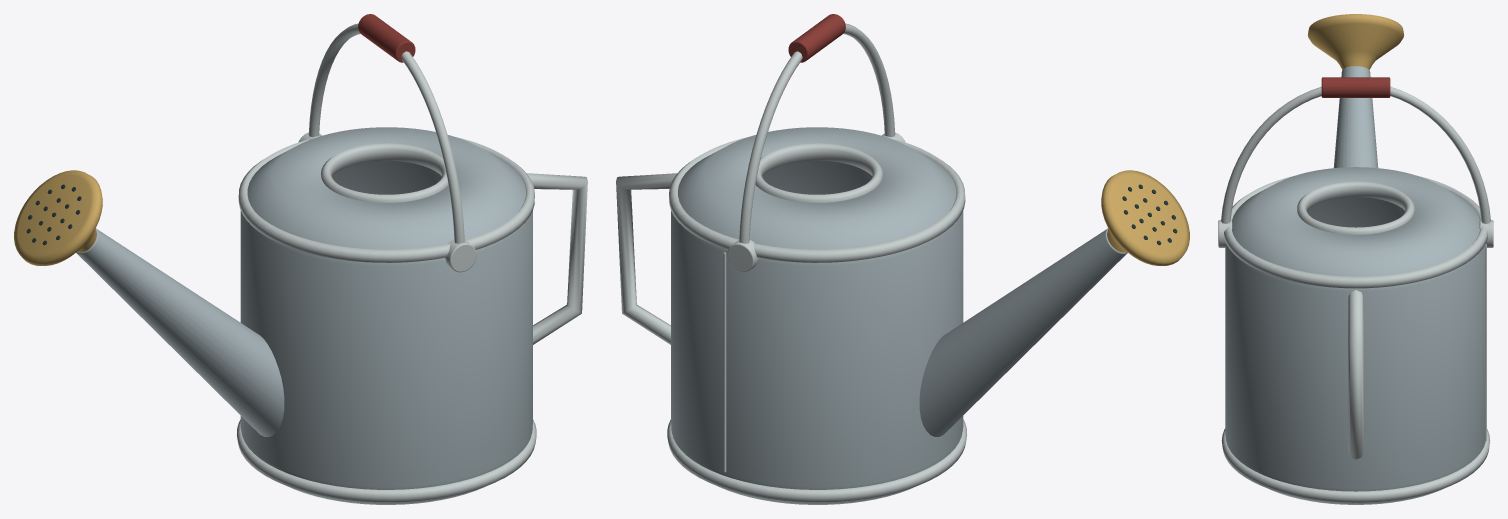
Rendered from P047_watering_can_photo.glb.
3 renders of one model, left to right at view 1: azimuth 30°, elevation 25°; view 2: azimuth 150°, elevation 25°; view 3: azimuth 270°, elevation 25°, orthographic. The views are drawn at different scales.
Visible parts, largest first — view 1: Watering_can_satin_galvanized_steel, Watering_can_rolled_metal_edges, Watering_can_brass_rose, Watering_can_red_carrying_grip; view 2: Watering_can_satin_galvanized_steel, Watering_can_rolled_metal_edges, Watering_can_brass_rose, Watering_can_red_carrying_grip; view 3: Watering_can_satin_galvanized_steel, Watering_can_rolled_metal_edges, Watering_can_brass_rose, Watering_can_red_carrying_grip.
Boxes of the visible parts, <box> form: Watering_can_satin_galvanized_steel: <box>76,127,532,504</box>; Watering_can_rolled_metal_edges: <box>237,23,587,502</box>; Watering_can_brass_rose: <box>14,170,102,265</box>; Watering_can_red_carrying_grip: <box>358,14,415,62</box>; Watering_can_satin_galvanized_steel: <box>671,127,1127,504</box>; Watering_can_rolled_metal_edges: <box>616,23,966,502</box>; Watering_can_brass_rose: <box>1101,170,1189,265</box>; Watering_can_red_carrying_grip: <box>788,14,845,62</box>; Watering_can_satin_galvanized_steel: <box>1225,66,1485,504</box>; Watering_can_rolled_metal_edges: <box>1218,86,1493,503</box>; Watering_can_brass_rose: <box>1308,14,1403,69</box>; Watering_can_red_carrying_grip: <box>1321,77,1390,97</box>.
Bounding box in the file's own units: 0.6631 × 0.473 × 0.314.
